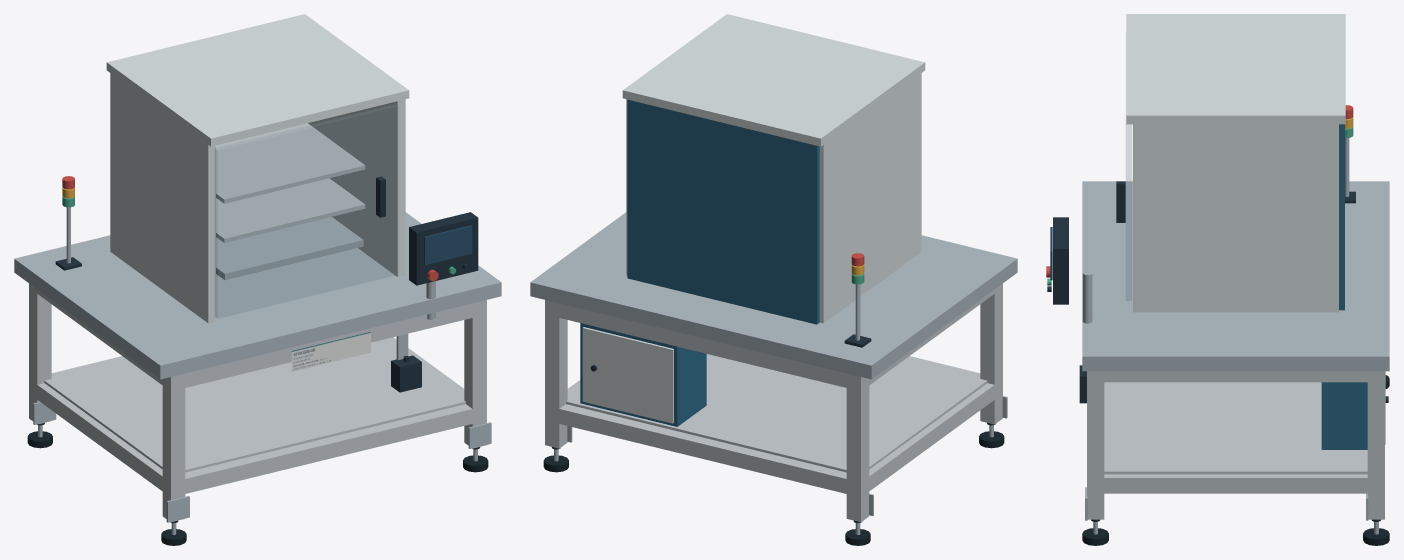
The model's file is print-postcure-cell.glb.
The picture shows the model from 3 angles, left to right: view 1: azimuth 30°, elevation 25°; view 2: azimuth 150°, elevation 25°; view 3: azimuth 270°, elevation 25°; orthographic projection. The views are drawn at different scales.
Parts seen in each view (by area): view 1: ClosedMachineBed_28, DoorFrame_52, LowerShelf_29, ClosedRoof_51, EnclosureSide_48, EnclosureSide_49, InternalRack_56, SlottedExtrusion_22, InternalRack_55, ProcessShelf_54, SlottedExtrusion_23, SlottedExtrusion_8 (+8 smaller); view 2: ClosedBack_50, ClosedMachineBed_28, ClosedRoof_51, LowerShelf_29, EnclosureSide_48, BackDoor_31, SlottedExtrusion_20, SlottedExtrusion_21, SlottedExtrusion_3, Cabinet_30, SlottedExtrusion_13, SlottedExtrusion_24 (+2 smaller); view 3: EnclosureSide_49, ClosedMachineBed_28, ClosedRoof_51, LowerShelf_29, SlottedExtrusion_26, SlottedExtrusion_27, Cabinet_30, SlottedExtrusion_18, SlottedExtrusion_13, ConsoleBack_34, ClosedBack_50, DoorFrame_52 (+2 smaller).
Part boxes in pixels (x1,y1,x2,y2): ClosedMachineBed_28: [14, 212, 501, 379]; DoorFrame_52: [215, 104, 398, 318]; LowerShelf_29: [44, 338, 465, 472]; ClosedRoof_51: [106, 14, 409, 146]; EnclosureSide_48: [110, 73, 215, 323]; EnclosureSide_49: [308, 99, 405, 276]; InternalRack_56: [216, 123, 365, 203]; SlottedExtrusion_22: [178, 404, 476, 495]; InternalRack_55: [216, 178, 365, 242]; ProcessShelf_54: [216, 217, 363, 280]; SlottedExtrusion_23: [178, 303, 472, 388]; SlottedExtrusion_8: [162, 373, 185, 522]; ClosedBack_50: [627, 99, 819, 324]; ClosedMachineBed_28: [530, 212, 1017, 379]; ClosedRoof_51: [622, 14, 925, 146]; LowerShelf_29: [566, 354, 987, 472]; EnclosureSide_48: [819, 73, 921, 323]; BackDoor_31: [582, 327, 673, 423]; SlottedExtrusion_20: [553, 404, 853, 494]; SlottedExtrusion_21: [559, 303, 853, 387]; SlottedExtrusion_3: [846, 373, 869, 522]; Cabinet_30: [580, 323, 706, 426]; SlottedExtrusion_13: [545, 300, 567, 448]; SlottedExtrusion_24: [865, 383, 994, 493]; EnclosureSide_49: [1133, 124, 1338, 312]; ClosedMachineBed_28: [1082, 181, 1389, 371]; ClosedRoof_51: [1126, 14, 1345, 124]; LowerShelf_29: [1104, 382, 1367, 474]; SlottedExtrusion_26: [1095, 474, 1376, 493]; SlottedExtrusion_27: [1095, 371, 1376, 382]; Cabinet_30: [1321, 382, 1367, 449]; SlottedExtrusion_18: [1087, 371, 1104, 519]; SlottedExtrusion_13: [1367, 371, 1384, 519]; ConsoleBack_34: [1053, 217, 1068, 304]; ClosedBack_50: [1339, 124, 1344, 310]; DoorFrame_52: [1126, 124, 1131, 300].
Size of the model in its own units: 1.55 by 1.64 by 1.29.
Materials: 12 (1 with a texture image).
